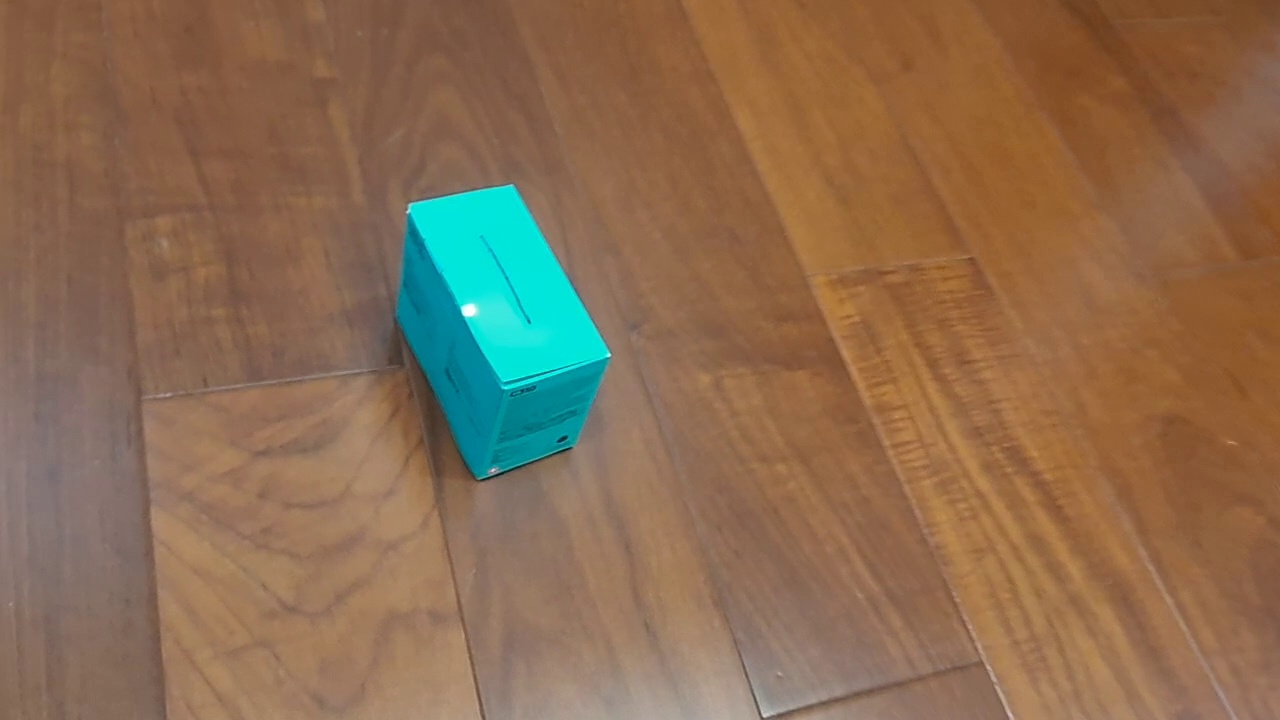webcam: (394, 183, 613, 482)
